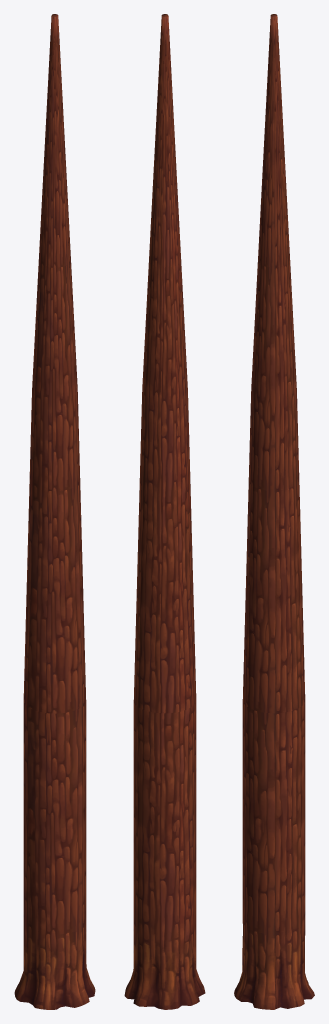
The model's file is skinny redwood.FBX.
The picture shows the model from 3 angles, left to right: view 1: azimuth 30°, elevation 25°; view 2: azimuth 210°, elevation 25°; view 3: azimuth 330°, elevation 25°; orthographic projection.
Visible parts, largest first — view 1: skinny redwood; view 2: skinny redwood; view 3: skinny redwood.
Boxes of the visible parts, x1,y1,x2,y2 form: skinny redwood: (14,14,95,1009); skinny redwood: (124,14,205,1009); skinny redwood: (234,14,314,1009).
Size of the model in its own units: 325 by 4362 by 322.
